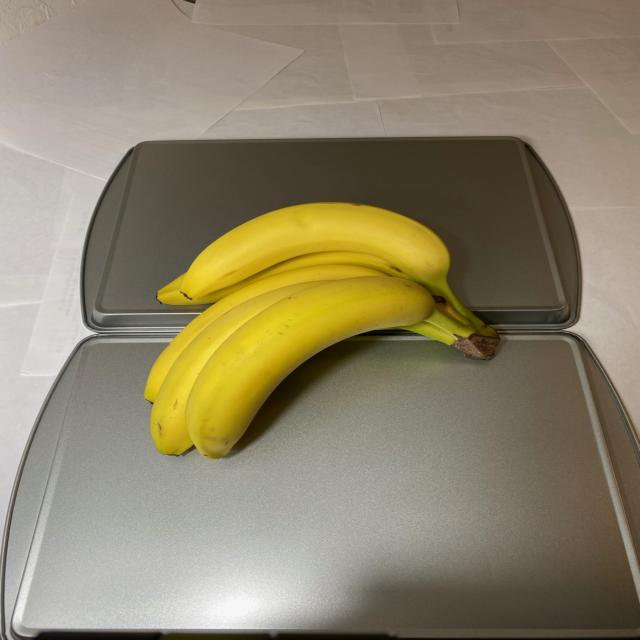Banana: (145, 202, 506, 462)
